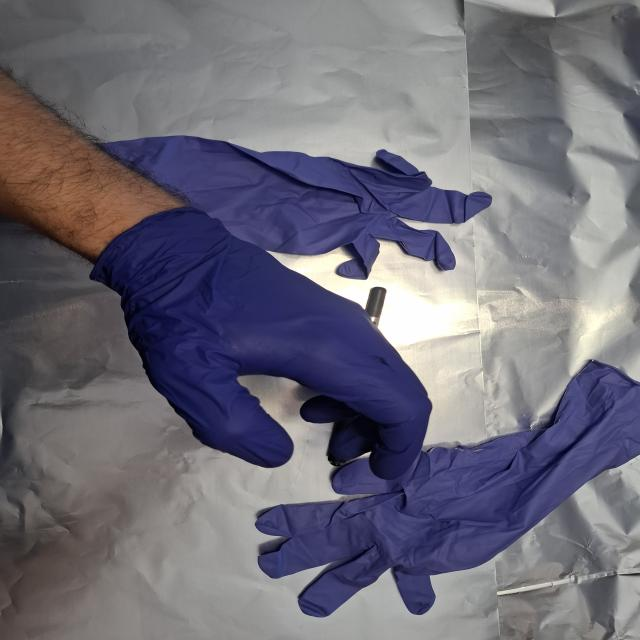glove_on: (102, 202, 436, 483)
